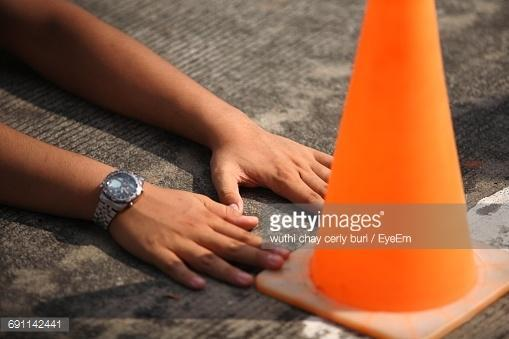Cone: (272, 1, 509, 339)
